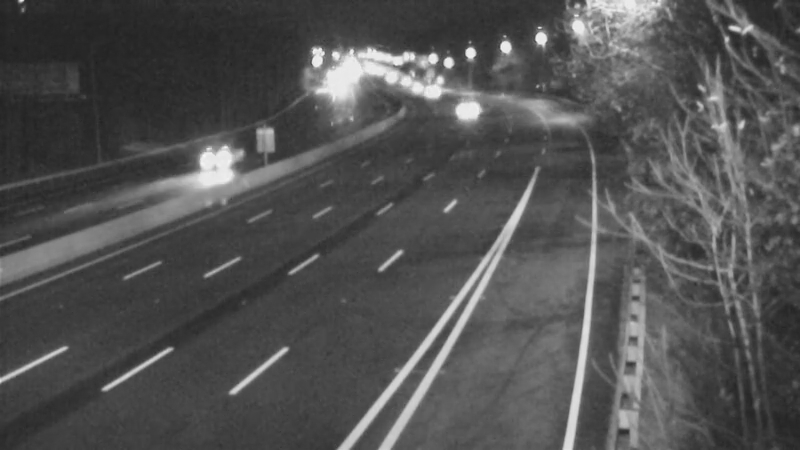vehicle: (171, 120, 251, 200), (394, 61, 444, 111), (408, 70, 458, 120), (434, 83, 484, 133)
